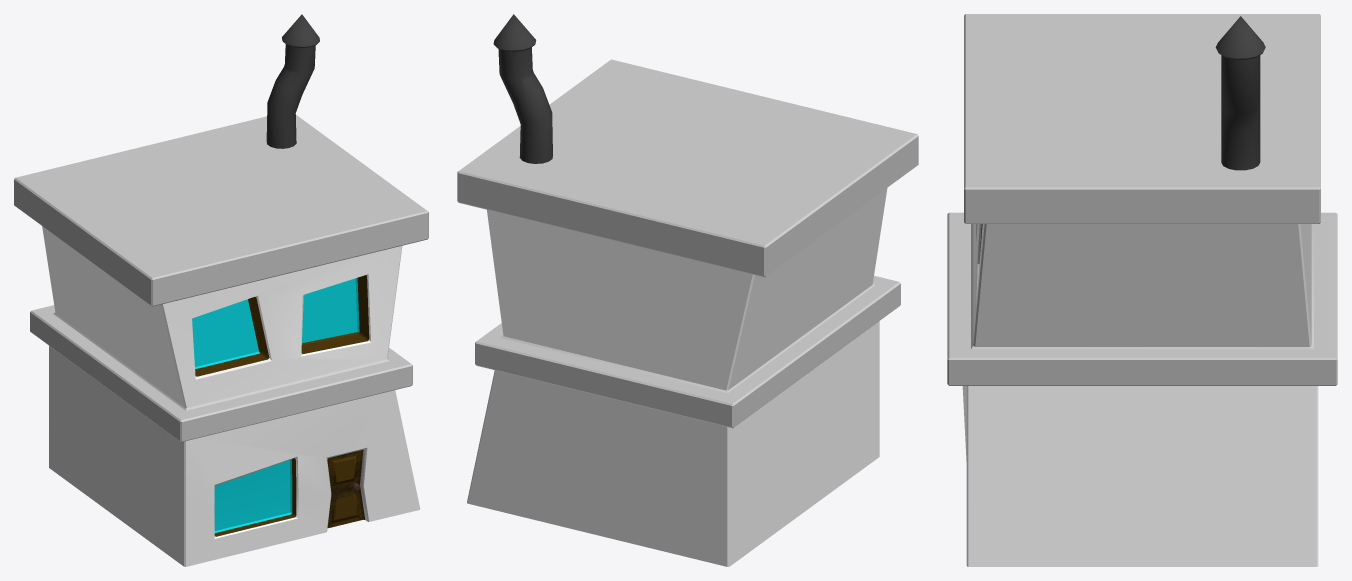
The model's file is PredioPequeno-BrancoLOD0.fbx.
3 views of the same model, side by side, from view 1: azimuth 30°, elevation 25°; view 2: azimuth 150°, elevation 25°; view 3: azimuth 270°, elevation 25° (orthographic). The views are drawn at different scales.
Visible parts, largest first — view 1: Predio2Andares; view 2: Predio2Andares; view 3: Predio2Andares.
Part boxes in pixels (x1,y1,x2,y2): Predio2Andares: [14, 14, 428, 566]; Predio2Andares: [457, 14, 918, 566]; Predio2Andares: [947, 14, 1337, 566].
Bounding box in the file's own units: 715 × 1035 × 675.
